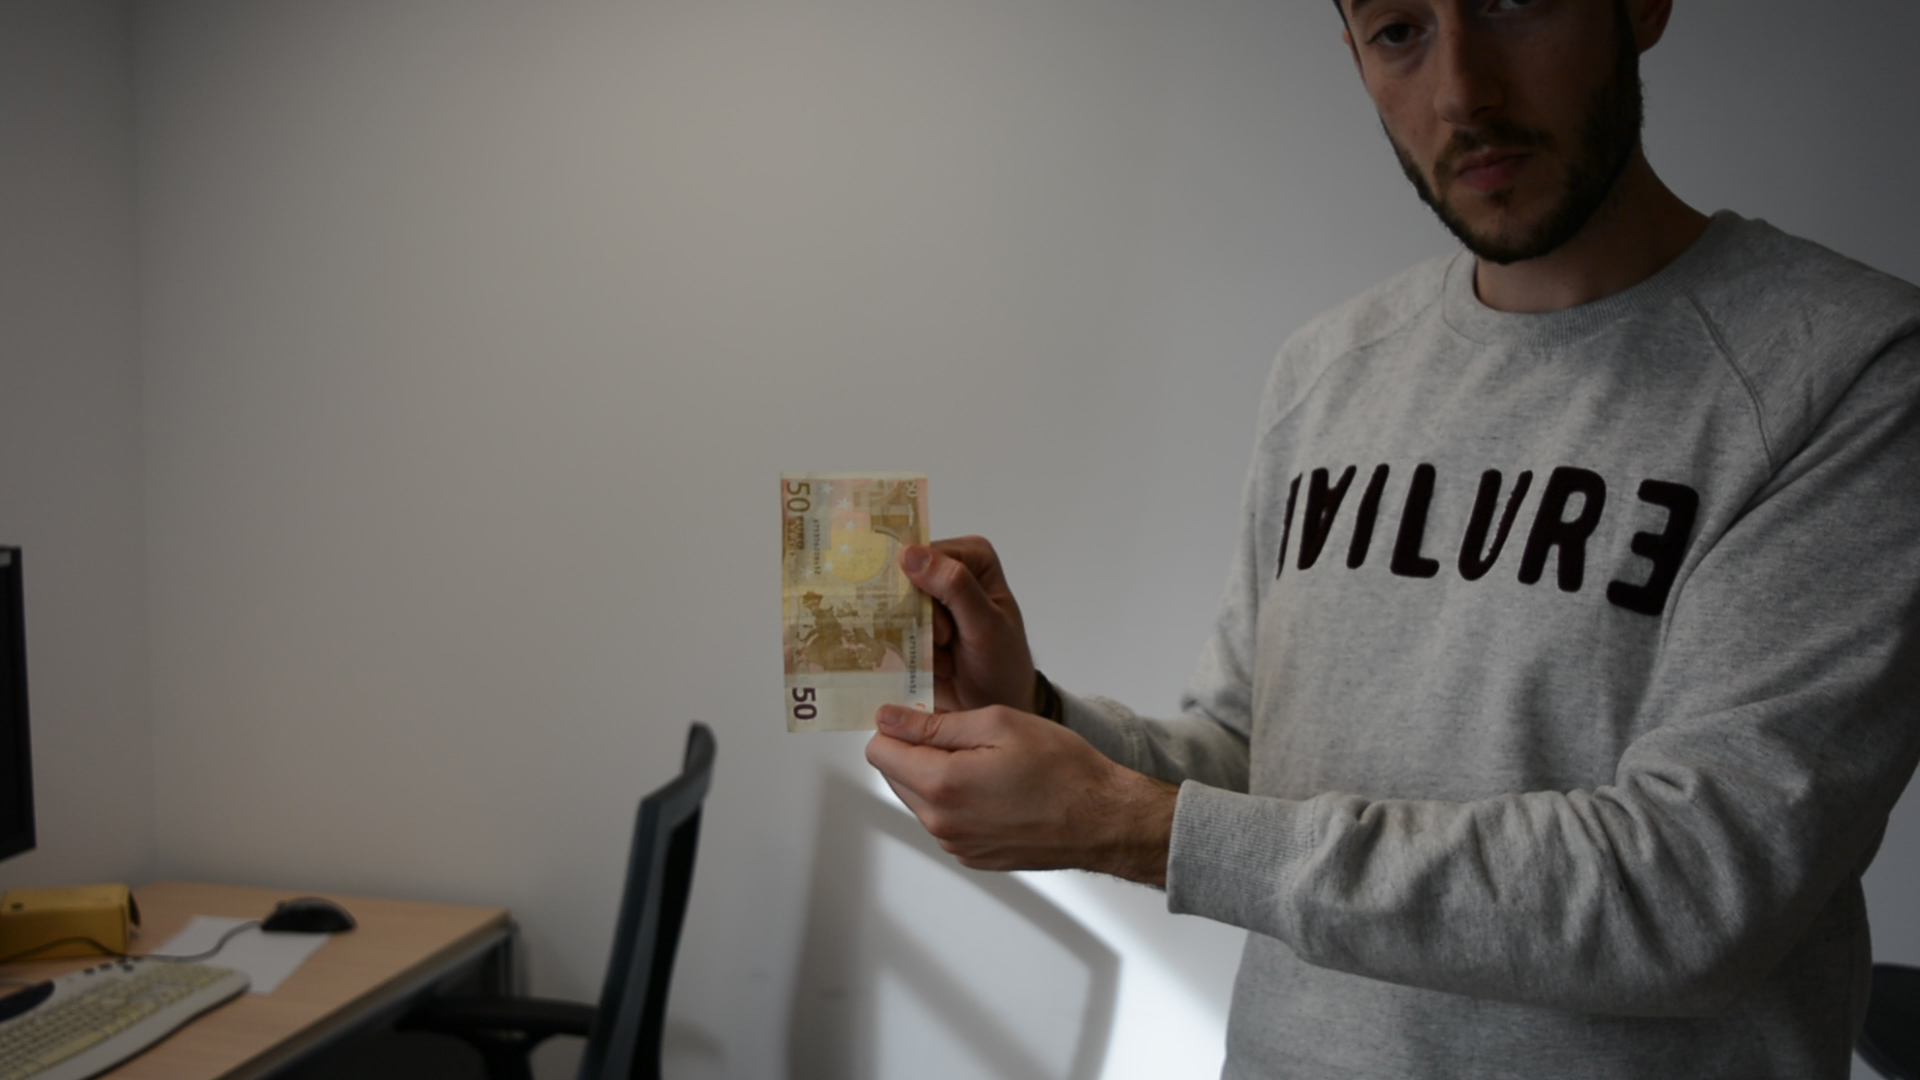billete: (781, 469, 938, 735)
